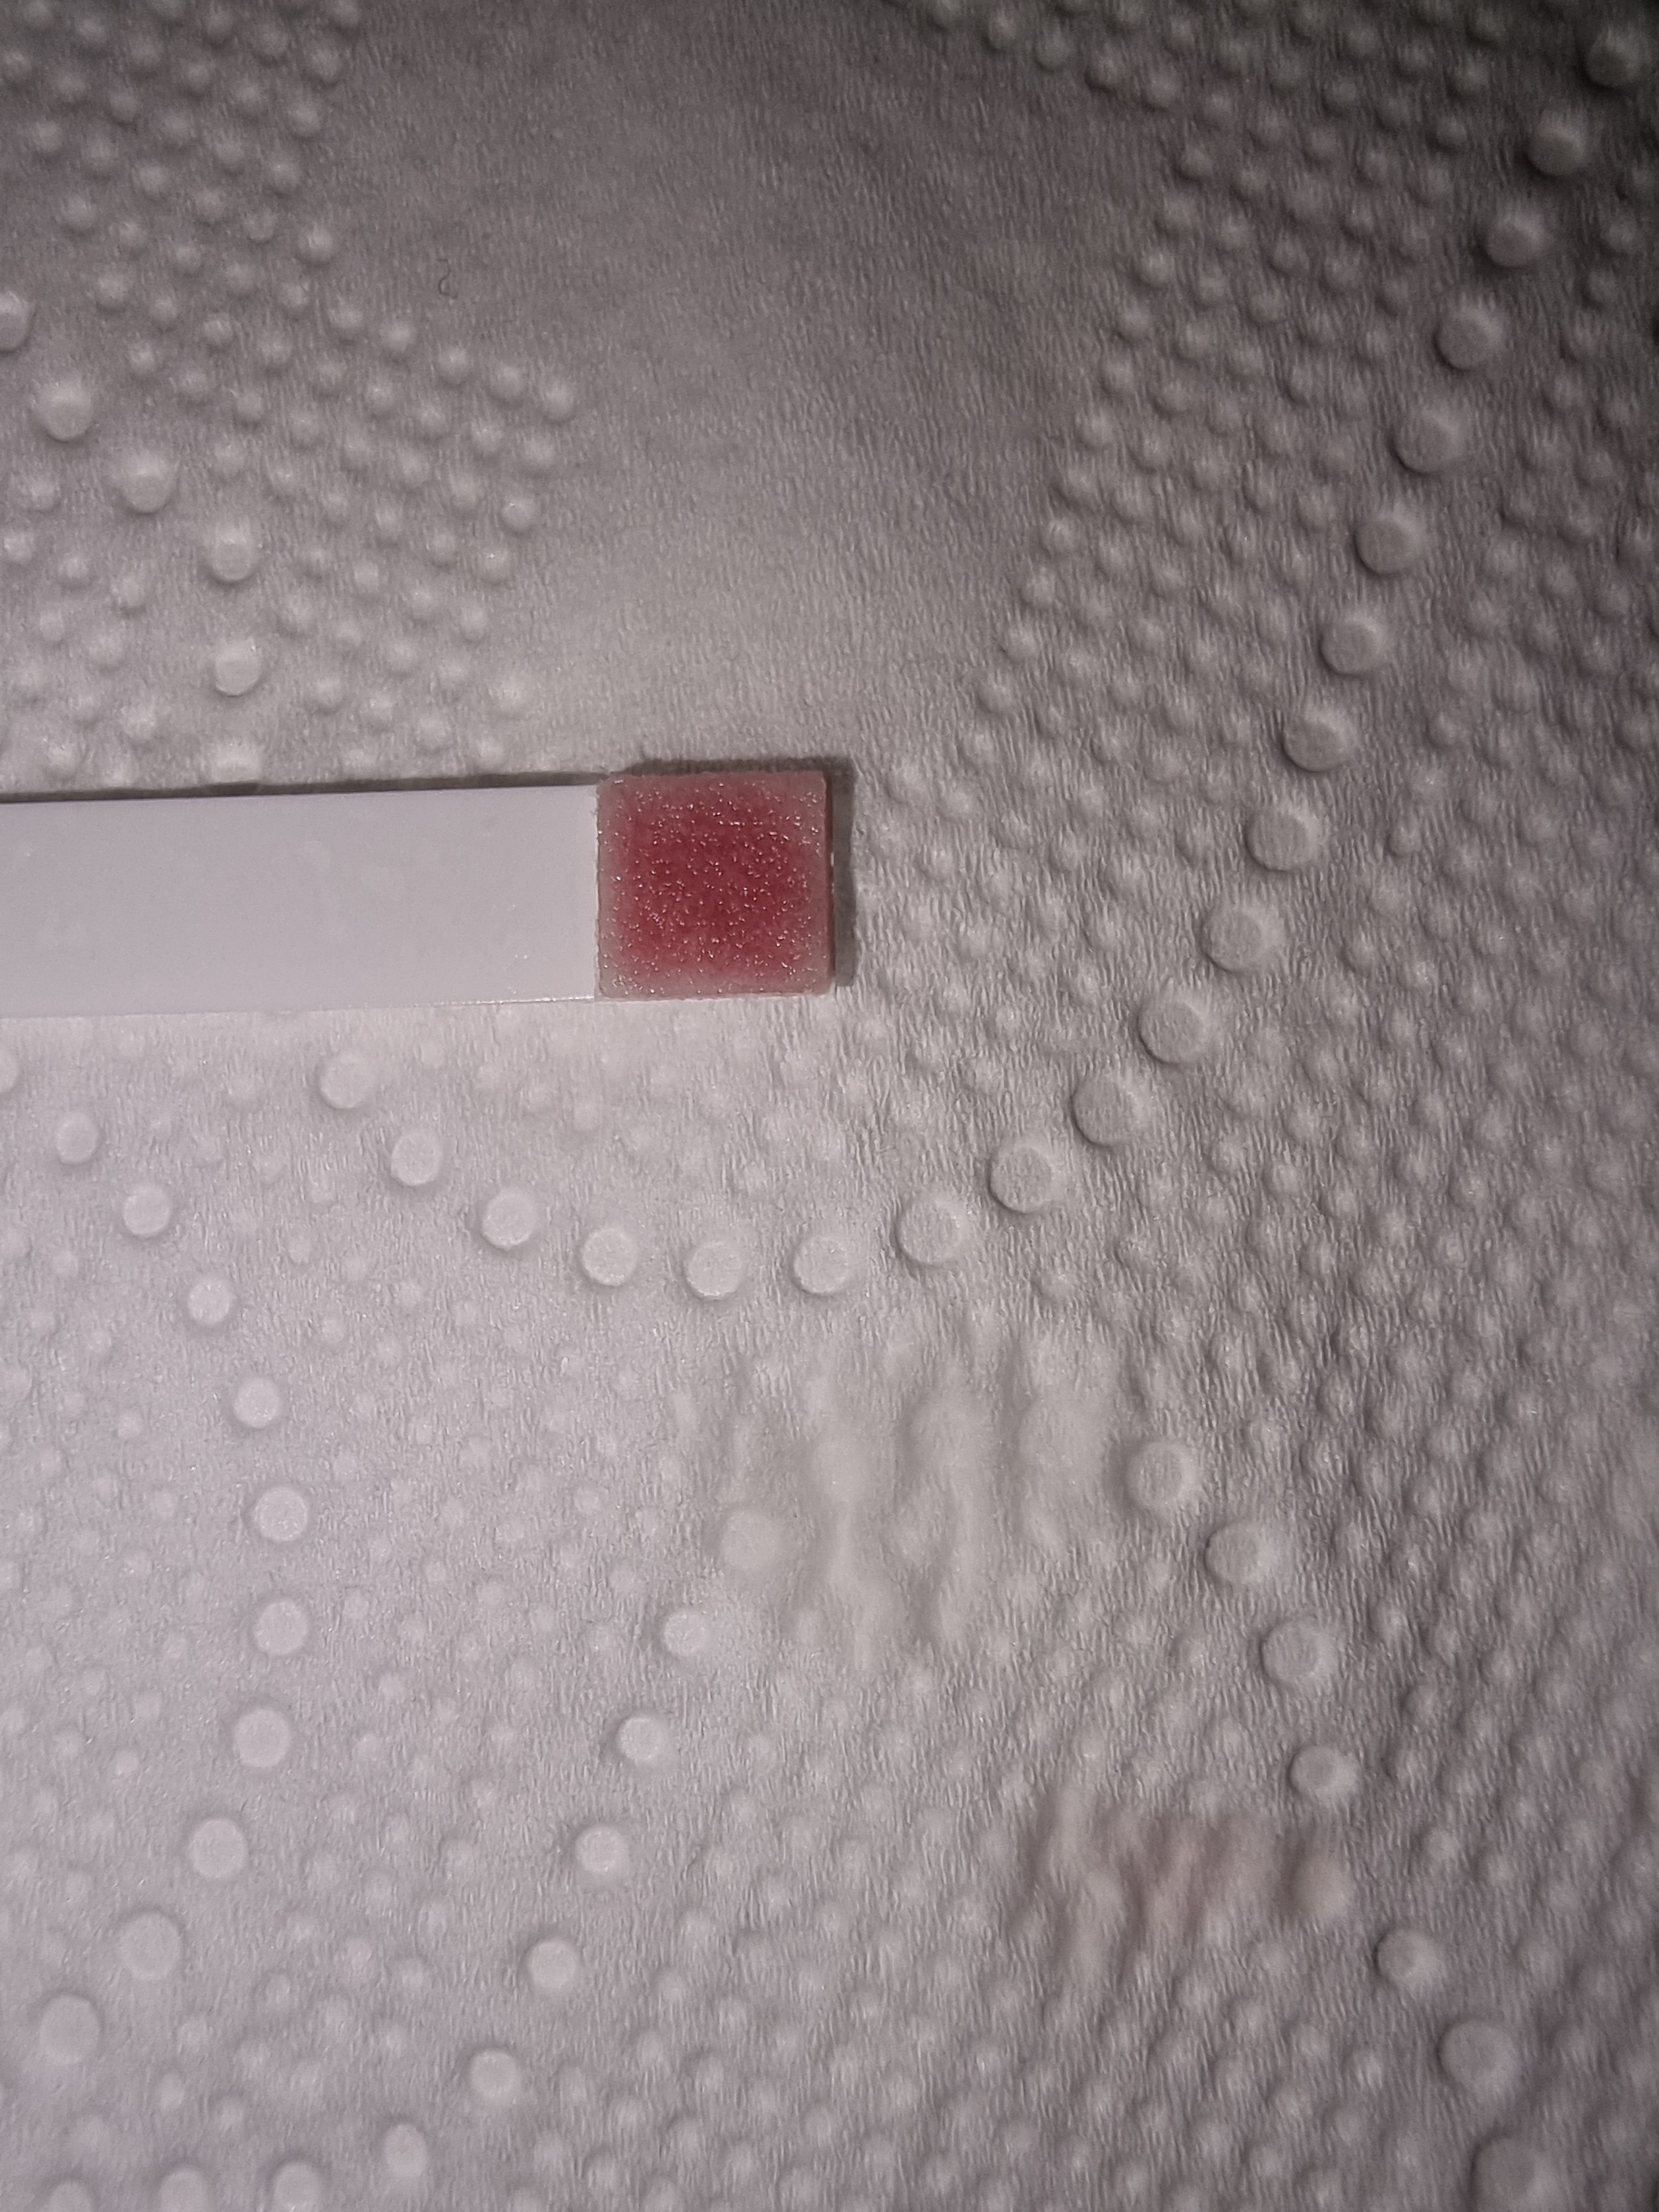keto-tip: (582, 752, 859, 1003)
